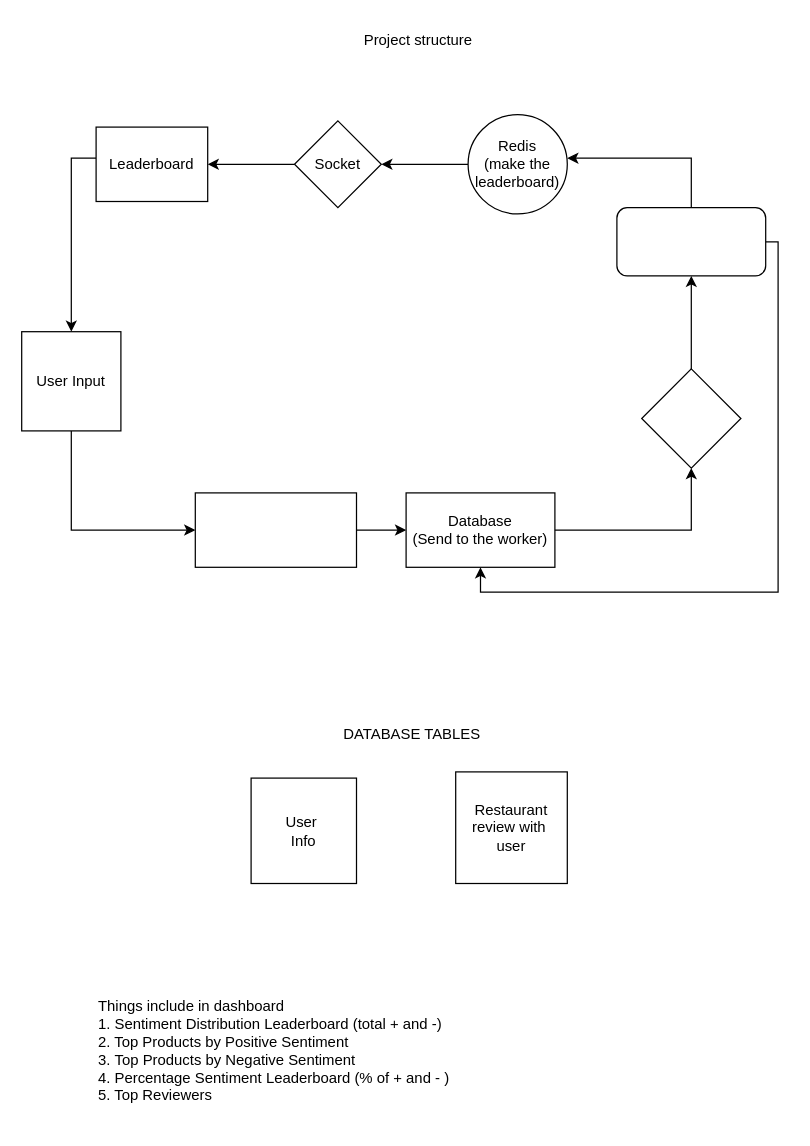
Some shapes in this 810 by 1146 pixel diagram are drawn without their labels. Each missing label, with the centre of its shape:
"Backend (send to db)" goes at [275,529].
"Message Queue" goes at [690,418].
"NLP MODEL (Send to DB and Redis)" goes at [691,241].
